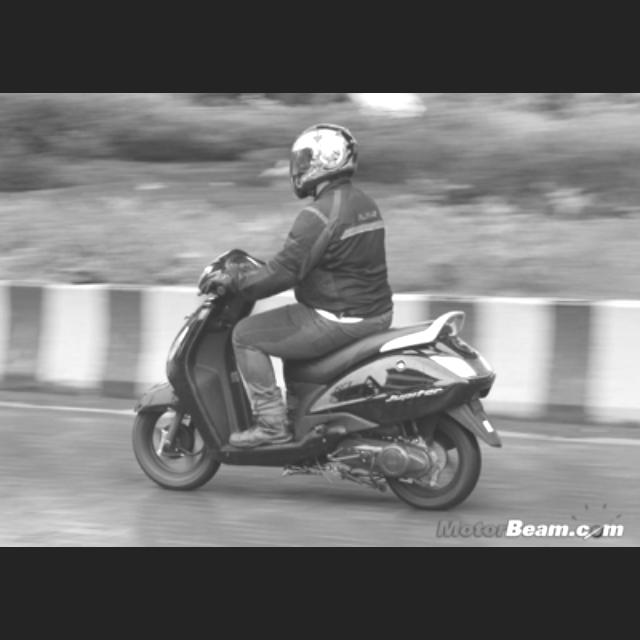With Helmet: (283, 119, 365, 204)
